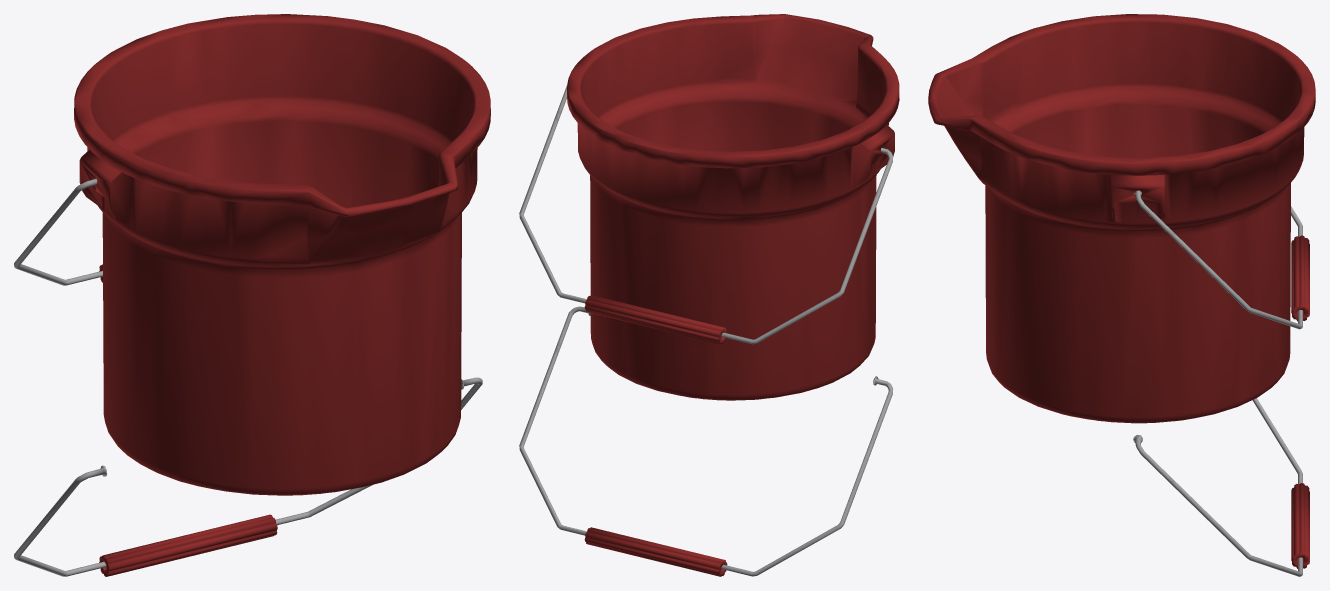
Rendered from bucket_red.glb.
3 views of the same model, side by side, from view 1: azimuth 30°, elevation 25°; view 2: azimuth 150°, elevation 25°; view 3: azimuth 270°, elevation 25° (orthographic). The views are drawn at different scales.
Parts seen in each view (by area): view 1: sm_bucket_utility_a01_mesh_00, sm_handle_a01_01_mesh_00 (×2); view 2: sm_bucket_utility_a01_mesh_00, sm_handle_a01_01_mesh_00 (×2); view 3: sm_bucket_utility_a01_mesh_00, sm_handle_a01_01_mesh_00 (×2).
Part boxes in pixels (x1,y1,x2,y2): sm_bucket_utility_a01_mesh_00: (74, 14, 490, 495); sm_handle_a01_01_mesh_00 (×2): (14, 178, 482, 576); sm_bucket_utility_a01_mesh_00: (567, 14, 899, 400); sm_handle_a01_01_mesh_00 (×2): (519, 85, 892, 576); sm_bucket_utility_a01_mesh_00: (928, 14, 1315, 423); sm_handle_a01_01_mesh_00 (×2): (1133, 190, 1309, 576).
Size of the model in its own units: 0.338 by 0.4164 by 0.3278.
Materials: 3 (1 with a texture image).
